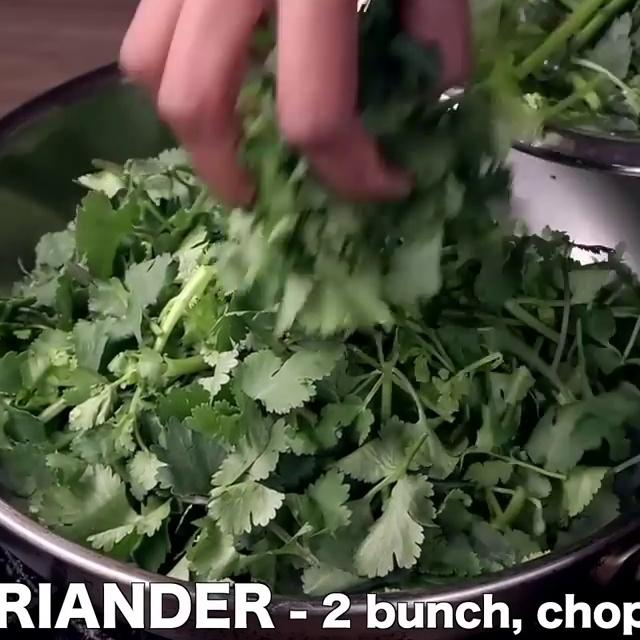cilantro: (3, 256, 640, 553)
